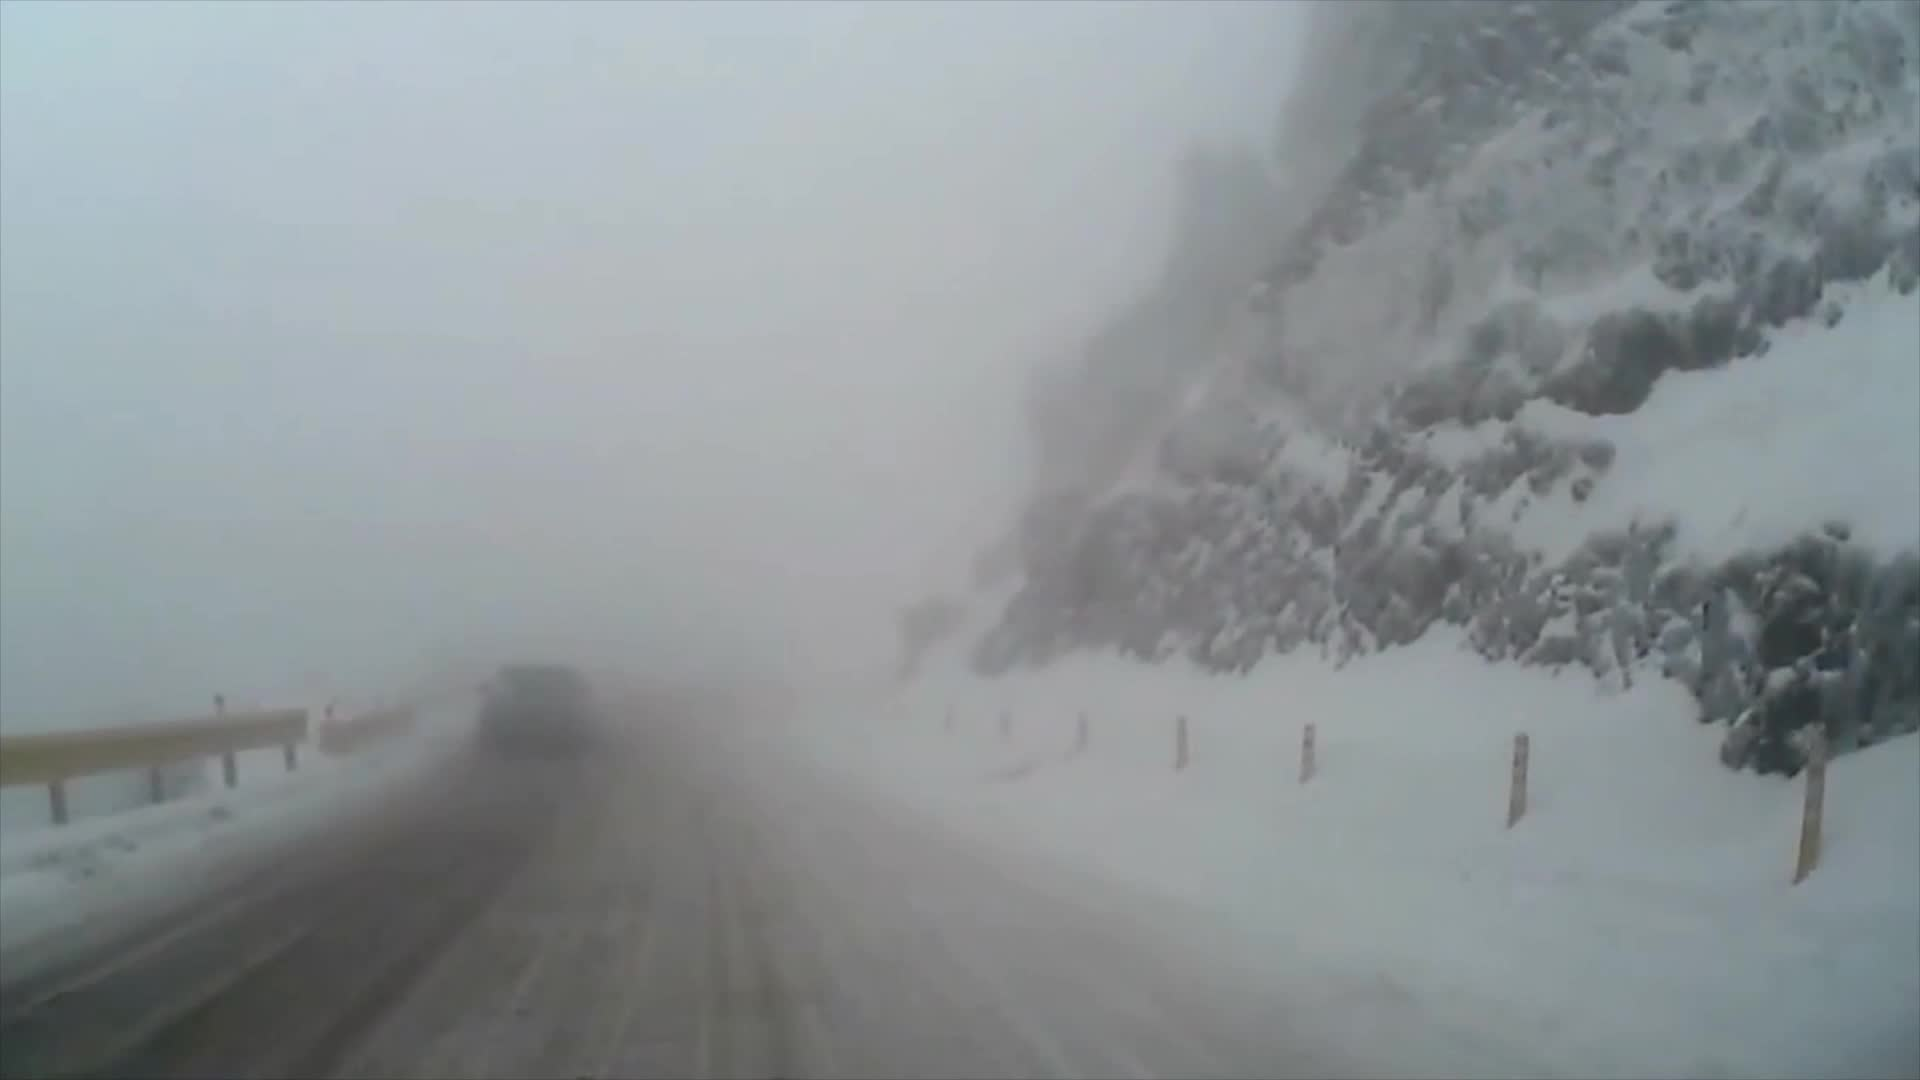vehicle: (477, 661, 593, 752)
